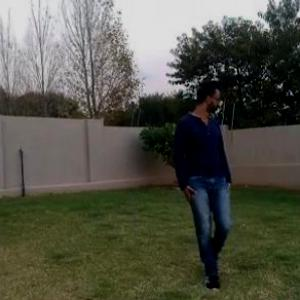follow: (183, 79, 233, 279)
